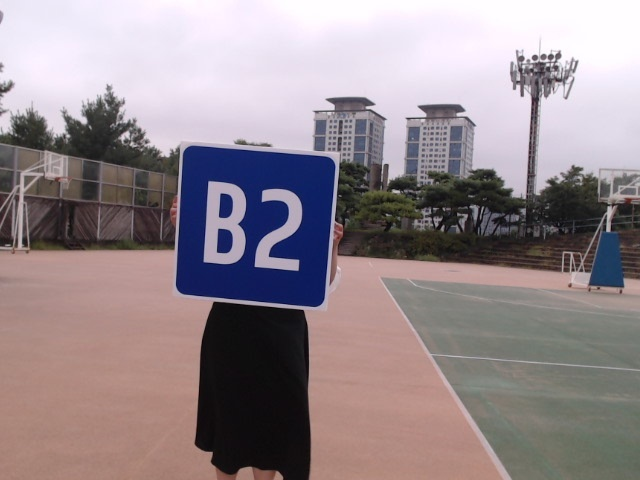delivery_b2: (175, 146, 337, 307)
